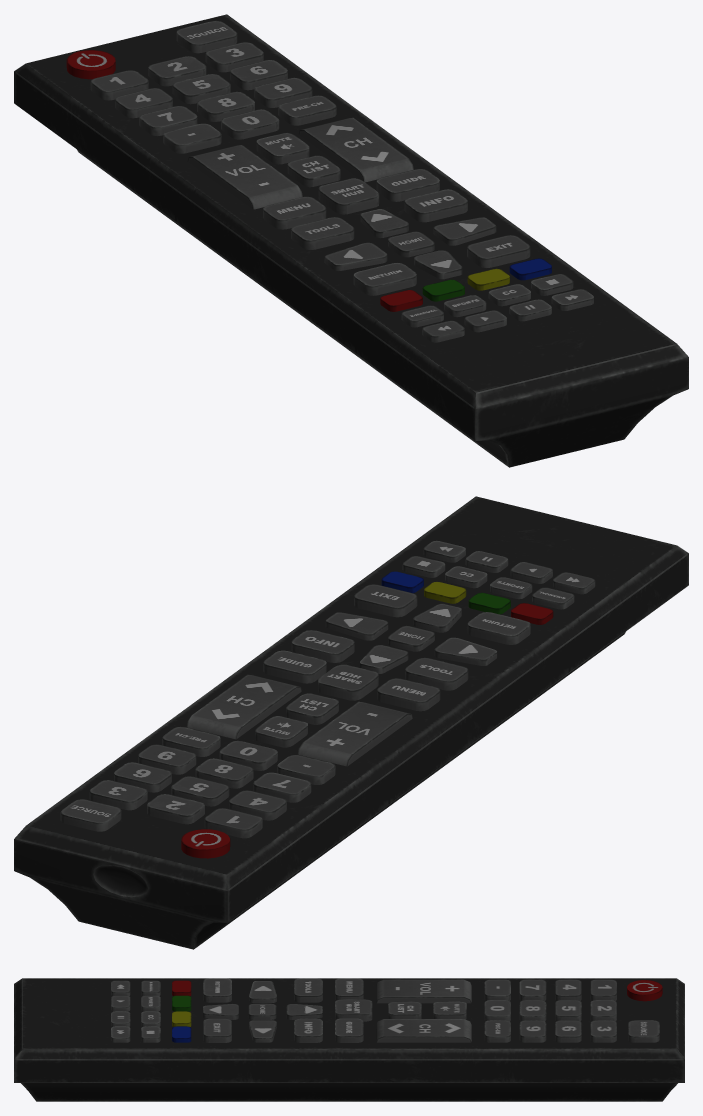
The model's file is Remote.fbx.
3 renders of one model, top to bottom at view 1: azimuth 30°, elevation 25°; view 2: azimuth 150°, elevation 25°; view 3: azimuth 270°, elevation 25°, orthographic. The views are drawn at different scales.
Parts seen in each view (by area): view 1: Remote; view 2: Remote; view 3: Remote.
Boxes of the visible parts, x1=… form: Remote: x1=14, y1=14, x2=688, y2=467; Remote: x1=14, y1=496, x2=688, y2=949; Remote: x1=14, y1=978, x2=684, y2=1101.
Bounding box in the file's own units: 6.43 × 2.95 × 24.21.
Materials: 2 (2 with a texture image).
